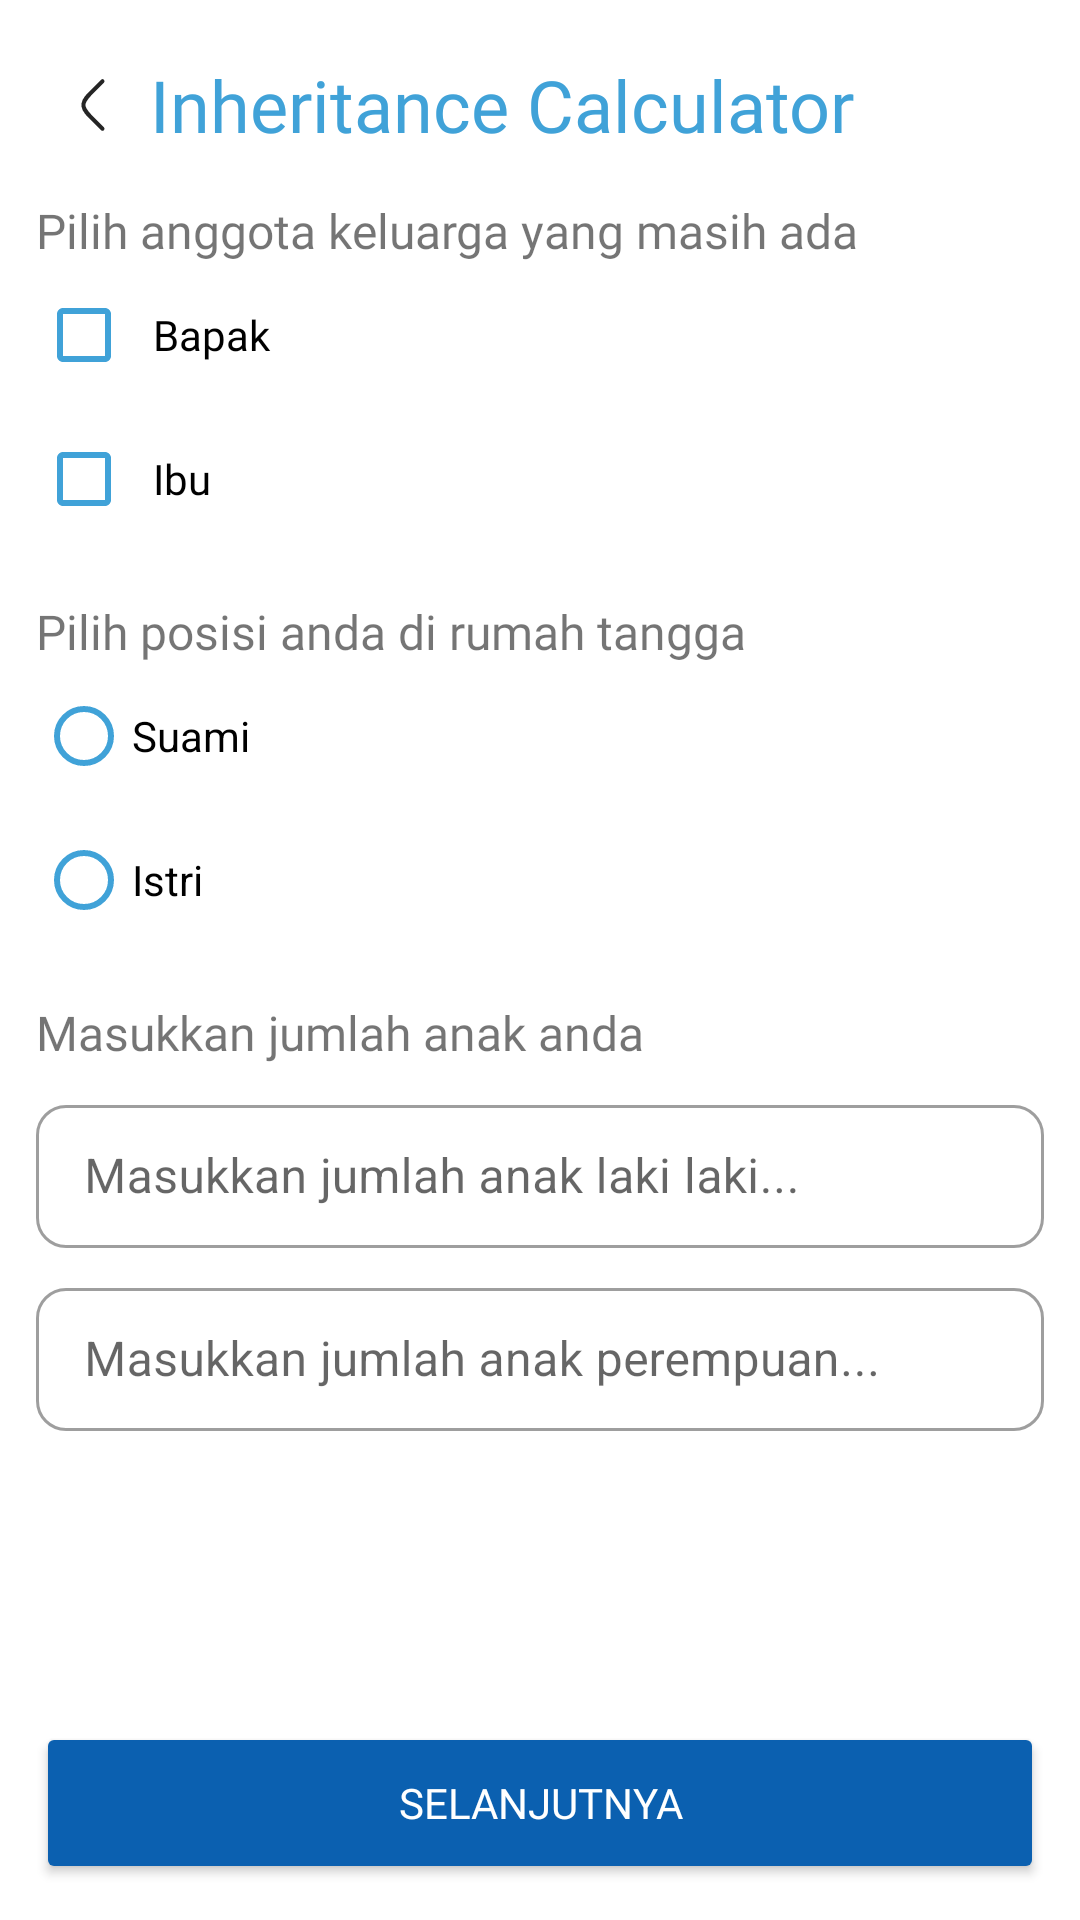

Screen size 1080 × 1920. Icon name, then its center in pixels as [x,y]:
left: [93,105]
